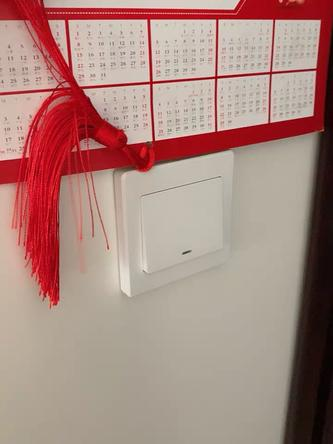switch: (131, 193, 208, 270)
